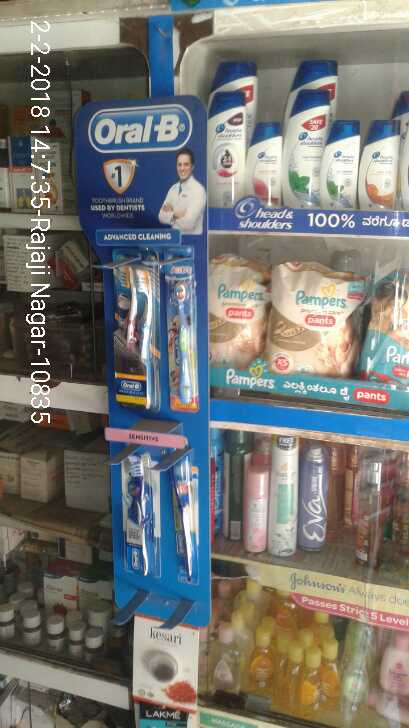beauty: (285, 82, 331, 218), (199, 88, 246, 220), (356, 116, 409, 212), (325, 121, 360, 219), (249, 124, 283, 208)
pharmacy: (265, 266, 359, 376), (100, 269, 160, 415), (199, 253, 268, 368), (159, 261, 205, 413), (112, 462, 171, 576), (166, 466, 213, 577)
